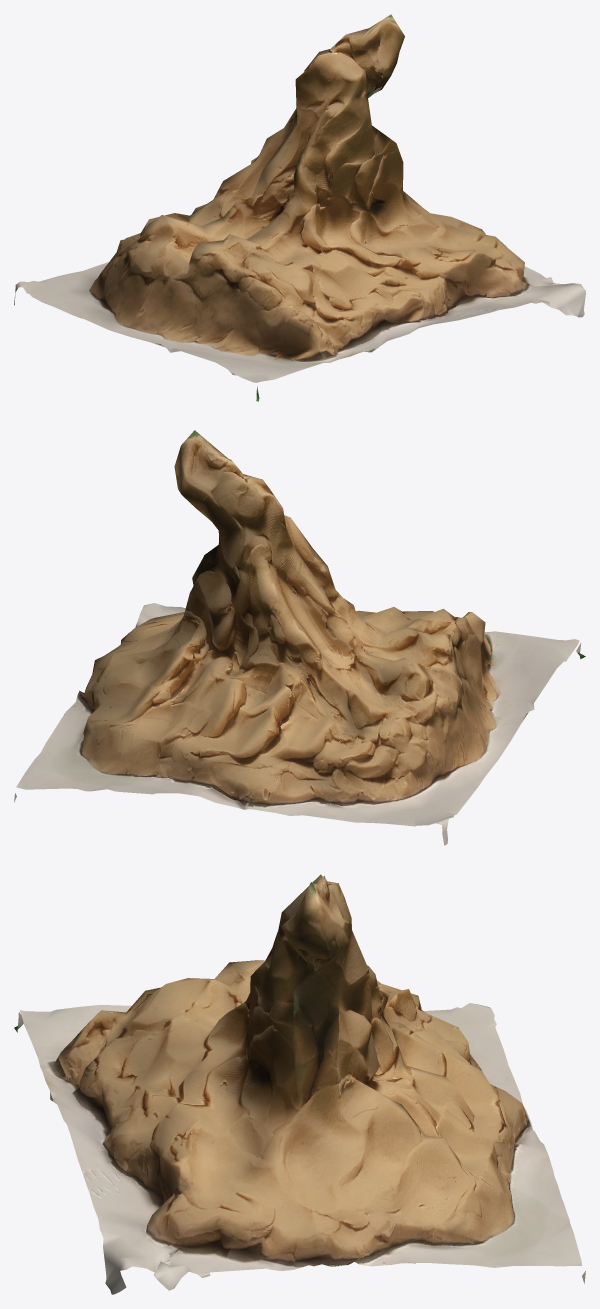
The model's file is GPGre_MamanLOD15.fbx.
3 renders of one model, top to bottom at view 1: azimuth 30°, elevation 25°; view 2: azimuth 150°, elevation 25°; view 3: azimuth 270°, elevation 25°, orthographic. The views are drawn at different scales.
Parts seen in each view (by area): view 1: Model; view 2: Model; view 3: Model.
Boxes of the visible parts, left/top/right/bottom form: Model: left=14, top=14, right=585, bottom=401; Model: left=14, top=430, right=585, bottom=845; Model: left=14, top=874, right=585, bottom=1294.
Bounding box in the file's own units: 2.35 × 1.52 × 2.16.
